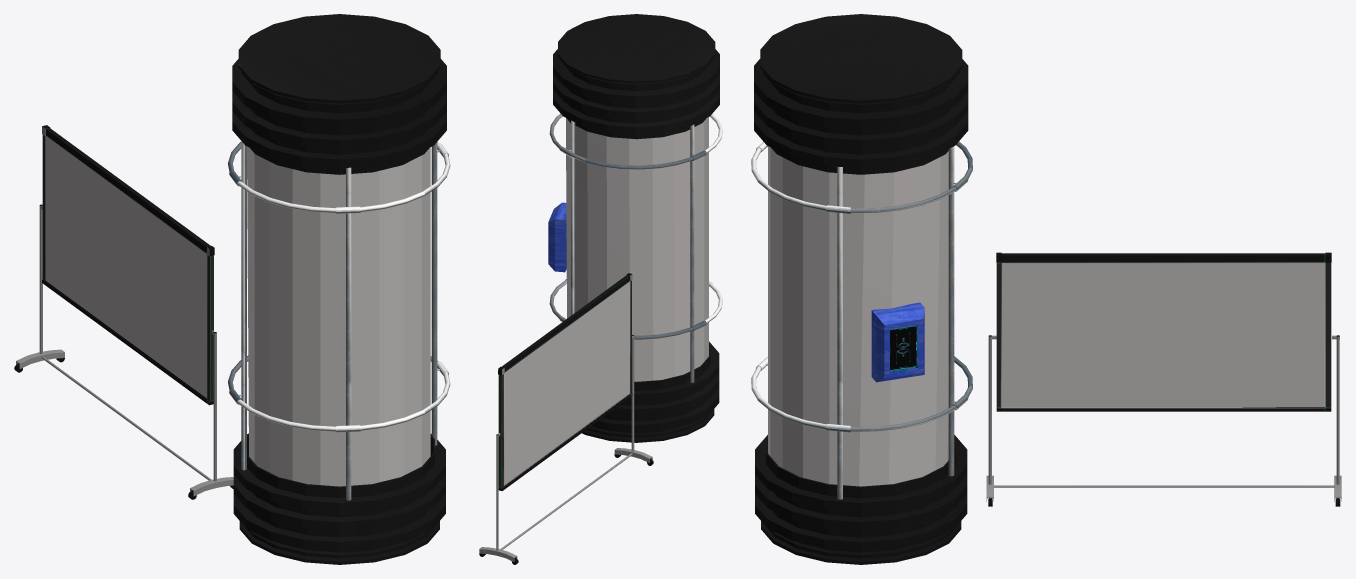
File: laboratorio.obj
3 views of the same model, side by side, from view 1: azimuth 30°, elevation 25°; view 2: azimuth 150°, elevation 25°; view 3: azimuth 270°, elevation 25° (orthographic). The views are drawn at different scales.
Parts seen in each view (by area): view 1: carcasa_tubo, vidrio_tubo, Box001; view 2: carcasa_tubo, vidrio_tubo, Box001; view 3: carcasa_tubo, Box001, vidrio_tubo.
Boxes of the visible parts, box(x1,y1,x2,y2) form: carcasa_tubo: box(228, 14, 450, 564); vidrio_tubo: box(247, 146, 430, 486); Box001: box(14, 125, 233, 499); carcasa_tubo: box(548, 14, 722, 442); vidrio_tubo: box(566, 117, 708, 381); Box001: box(479, 273, 653, 564); carcasa_tubo: box(751, 14, 972, 564); Box001: box(986, 252, 1341, 506); vidrio_tubo: box(768, 146, 948, 486).
Size of the model in its own units: 5.21 by 12.08 by 13.79.
4 materials, 4 textured.
